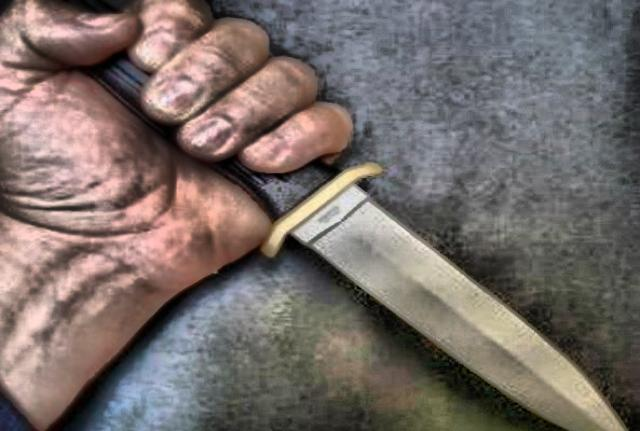knife: (156, 52, 638, 430)
